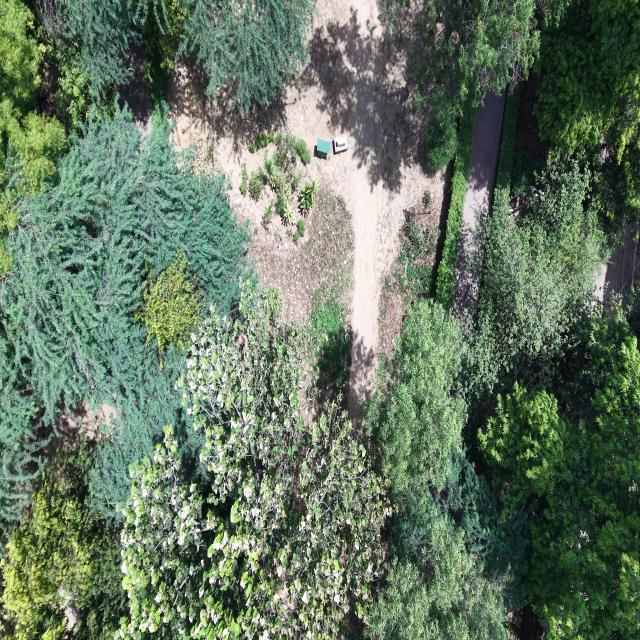DRY_AREA: (169, 0, 444, 414), (453, 91, 505, 319), (454, 92, 504, 317), (463, 91, 505, 229), (515, 74, 550, 163), (599, 227, 639, 296)
VEGETATION_TREE: (0, 0, 639, 639), (2, 289, 390, 638), (3, 291, 390, 638), (3, 291, 389, 638), (367, 163, 636, 638), (462, 4, 638, 638), (368, 163, 603, 637), (465, 3, 639, 638), (2, 107, 246, 512), (463, 99, 638, 638), (122, 290, 390, 638), (463, 162, 638, 637), (0, 0, 313, 237), (479, 308, 639, 639), (367, 300, 507, 639), (36, 0, 314, 126), (469, 162, 604, 394), (0, 440, 126, 639), (536, 0, 639, 237), (404, 0, 539, 169), (253, 186, 354, 405), (369, 300, 466, 522), (36, 0, 185, 128), (0, 0, 66, 277), (0, 0, 66, 274), (366, 516, 508, 639), (179, 0, 314, 112), (0, 0, 65, 202), (296, 187, 354, 401), (39, 0, 149, 101), (378, 190, 441, 359), (0, 327, 47, 531), (435, 102, 475, 306), (249, 130, 309, 225), (142, 252, 197, 351), (310, 285, 352, 399), (141, 0, 186, 106), (0, 0, 42, 110), (395, 212, 438, 301), (495, 83, 522, 199), (511, 151, 544, 198), (273, 131, 310, 167), (624, 285, 639, 339), (299, 179, 319, 216), (249, 132, 277, 153), (249, 132, 274, 153), (249, 171, 264, 201), (239, 163, 252, 196), (277, 201, 294, 226), (262, 201, 275, 232), (296, 139, 310, 165), (293, 219, 305, 244), (422, 190, 431, 210)
